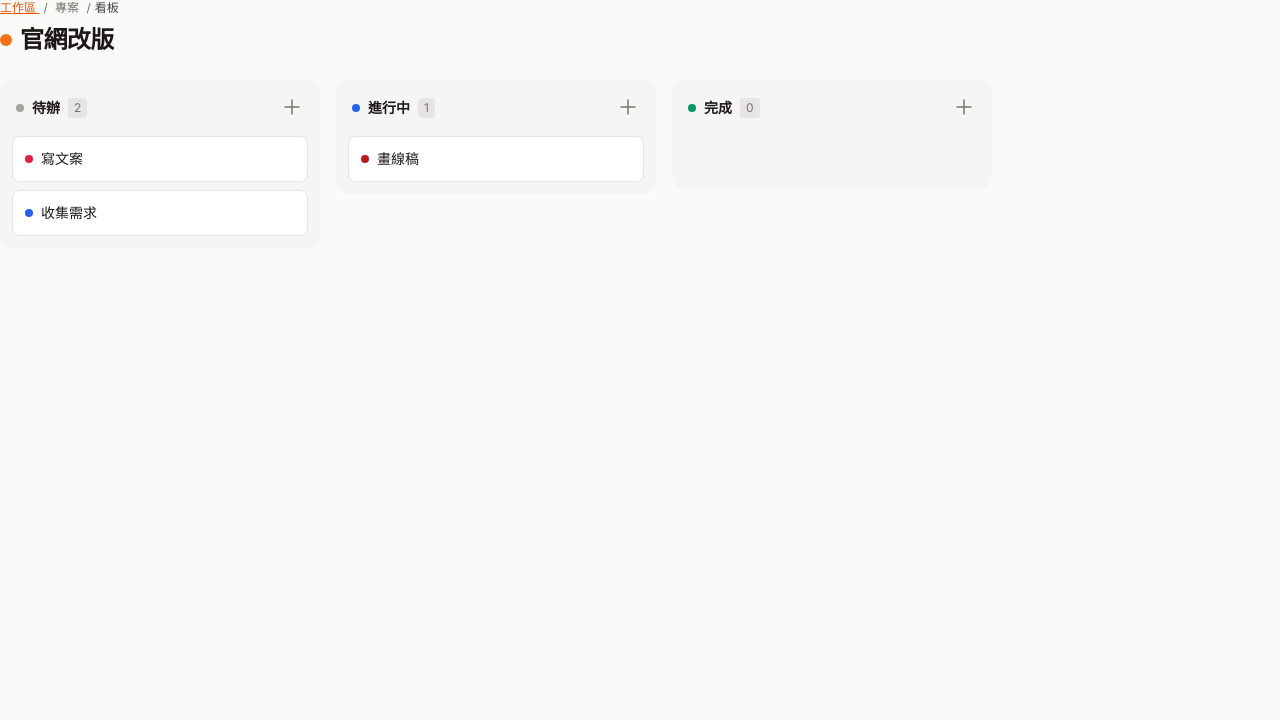
it: BoardView › 點 TaskCard 開啟 TaskDrawer（顯示該 task 的標題）
Step 1. Click the element with test id "task-card-wrapper" showing "寫文案" → click(160, 159), box [12,136,308,182]
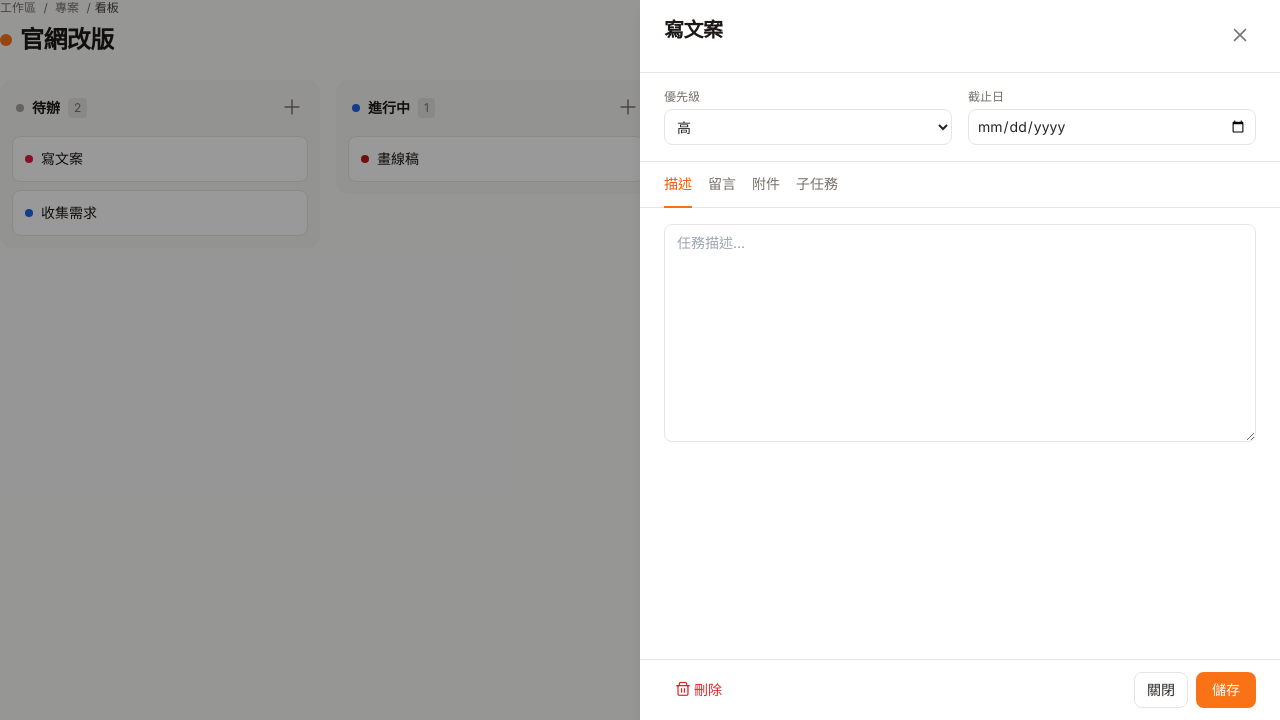
Check: the dialog with test id "task-drawer" is shown
Check: the field with test id "title-input" holds "寫文案", box [664,16,1212,44]
